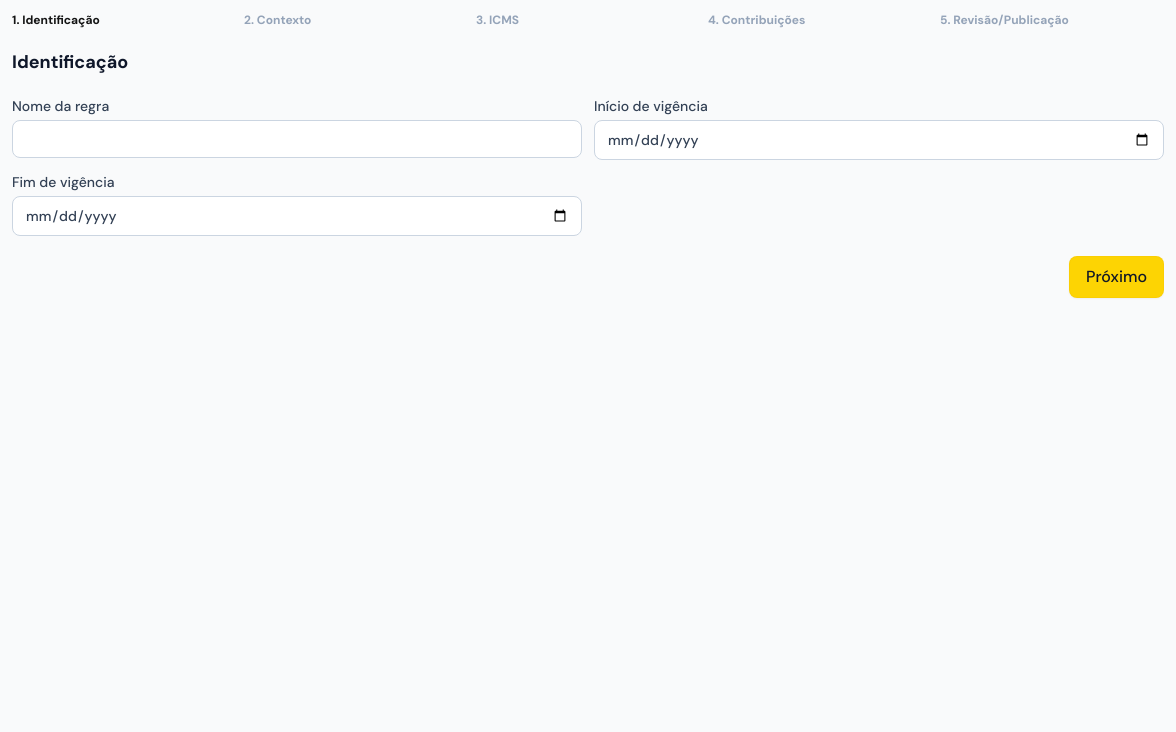
Scenario: TaxRuleWizard › requires evidence and checksum before submitting an immutable publication
Expected: the heading "Identificação" is shown, [12,50,128,74]
Click the button "Próximo" at [1116, 277], box [1069,256,1164,298]
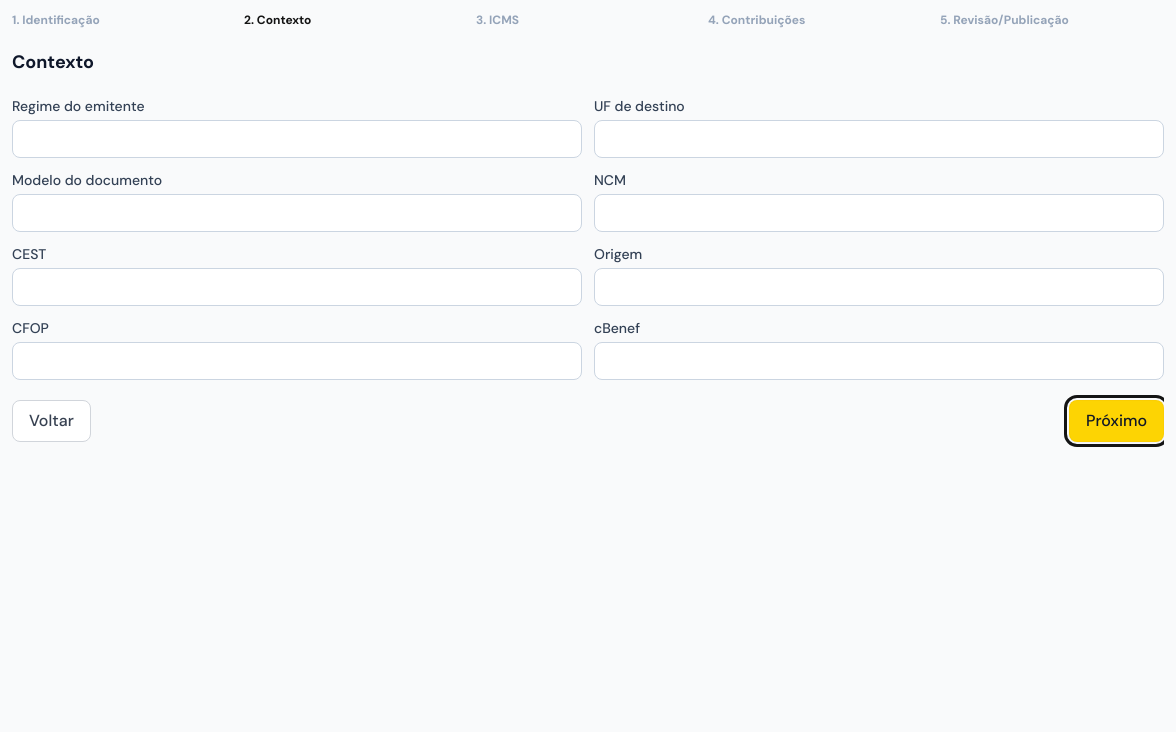
Expected: the heading "Contexto" is shown, [12,50,94,74]
Click the button "Próximo" at [1116, 421], box [1069,400,1164,442]
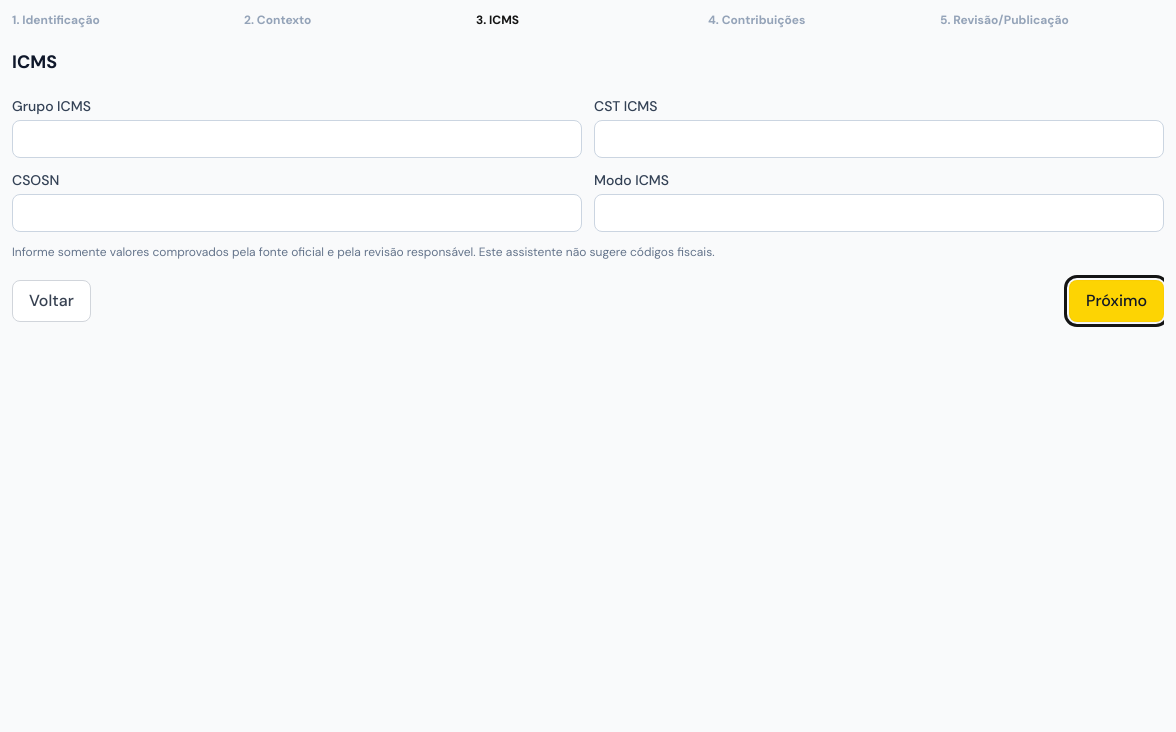
Expected: the heading "ICMS" is shown, [12,50,57,74]
Click the button "Próximo" at [1116, 301], box [1069,280,1164,322]
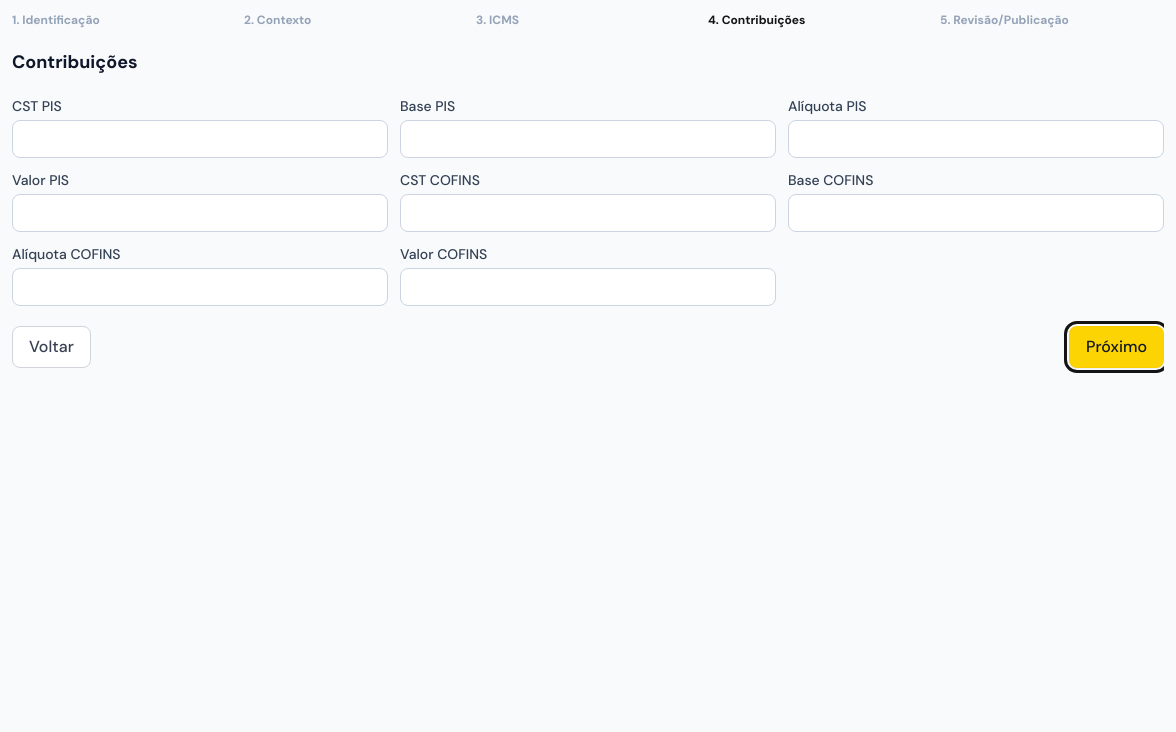
Expected: the heading "Contribuições" is shown, [12,50,138,74]
Click the button "Próximo" at [1116, 347], box [1069,326,1164,368]
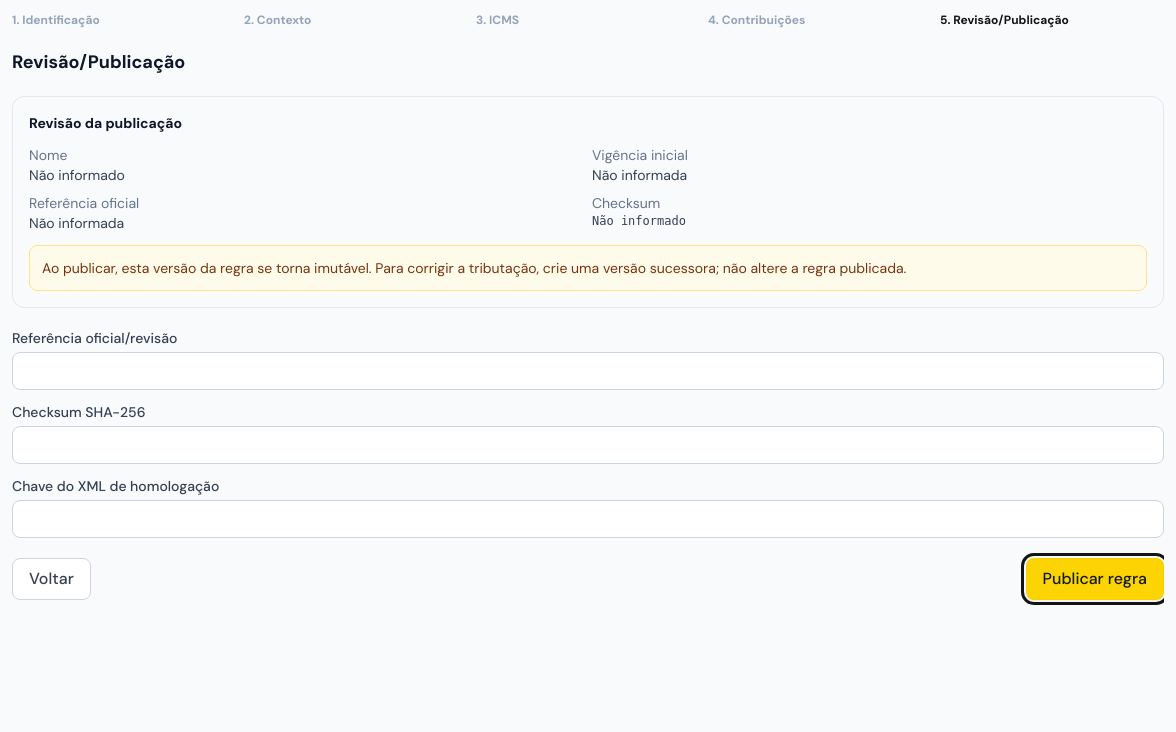
Expected: the heading "Revisão/Publicação" is shown, [12,50,185,74]
Click the button "Publicar regra" at [1095, 579], box [1026,558,1164,600]
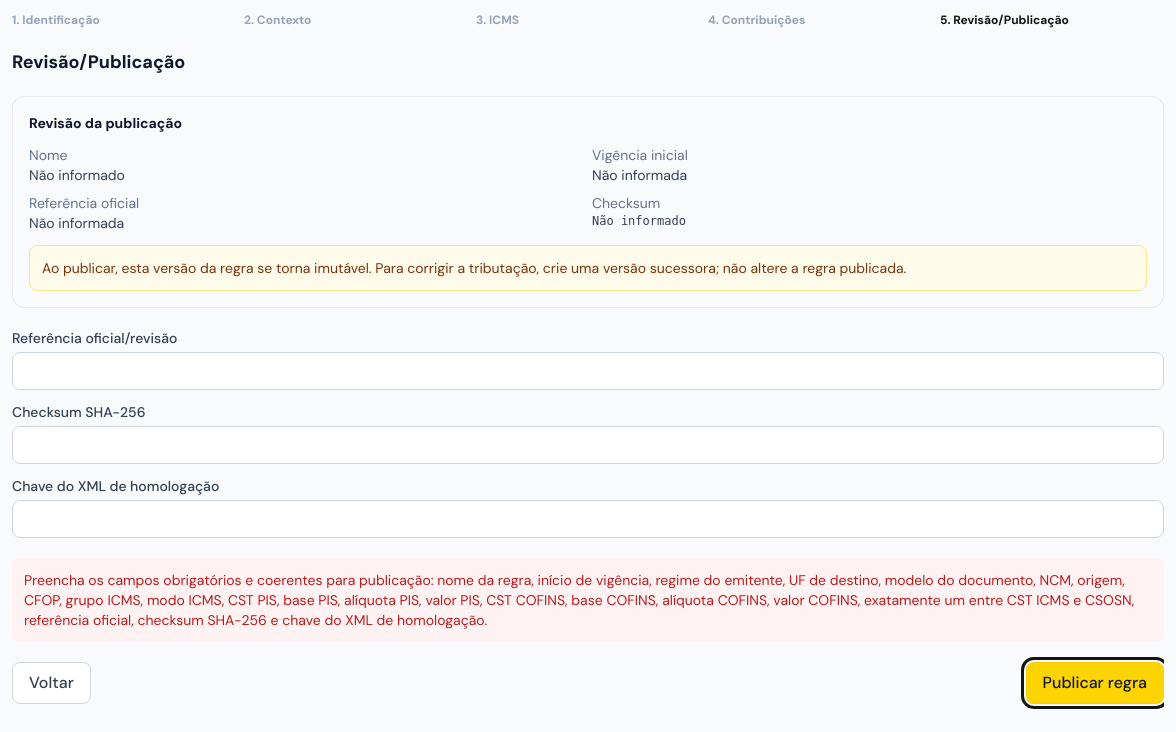
Expected: the message shows "referência oficial", [24,571,1134,629]
